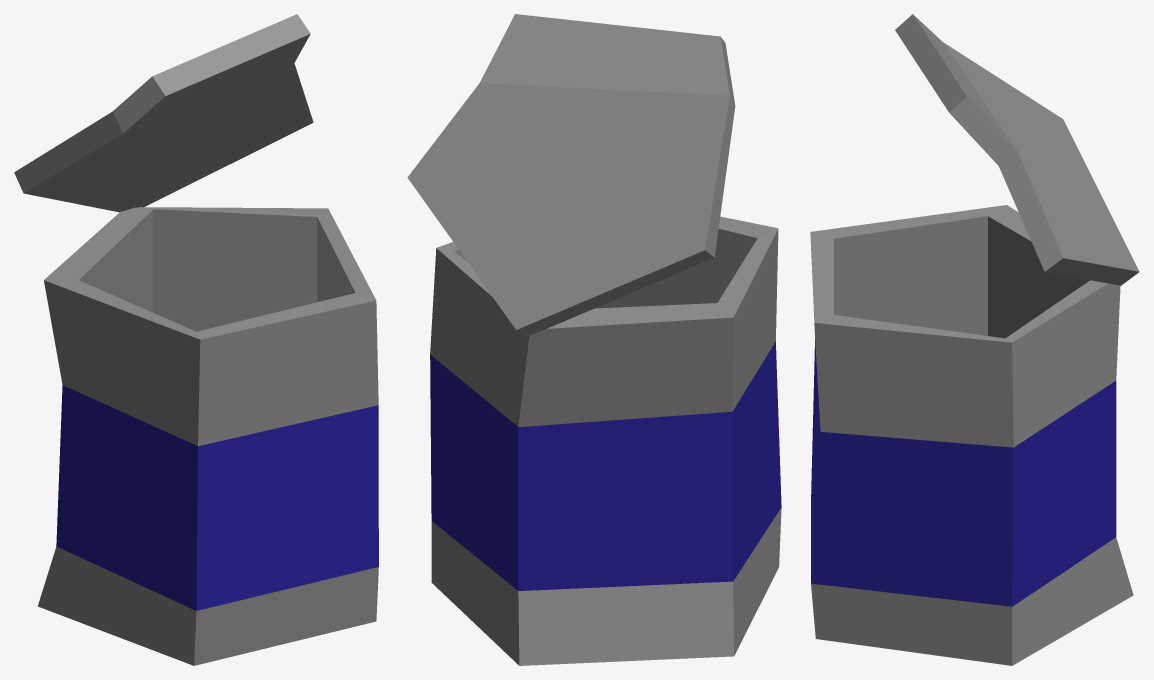
File: can.fbx
The picture shows the model from 3 angles, left to right: view 1: azimuth 30°, elevation 25°; view 2: azimuth 150°, elevation 25°; view 3: azimuth 270°, elevation 25°; orthographic projection. The views are drawn at different scales.
Visible parts, largest first — view 1: Cylinder, Cylinder.001; view 2: Cylinder, Cylinder.001; view 3: Cylinder, Cylinder.001.
Part boxes in pixels (box(x1,y1,x2,y2)): Cylinder: box(37, 207, 378, 665); Cylinder.001: box(14, 14, 313, 212); Cylinder: box(430, 216, 781, 665); Cylinder.001: box(407, 14, 735, 337); Cylinder: box(810, 205, 1133, 665); Cylinder.001: box(895, 14, 1139, 285).
Bounding box in the file's own units: 191 × 340 × 187.
